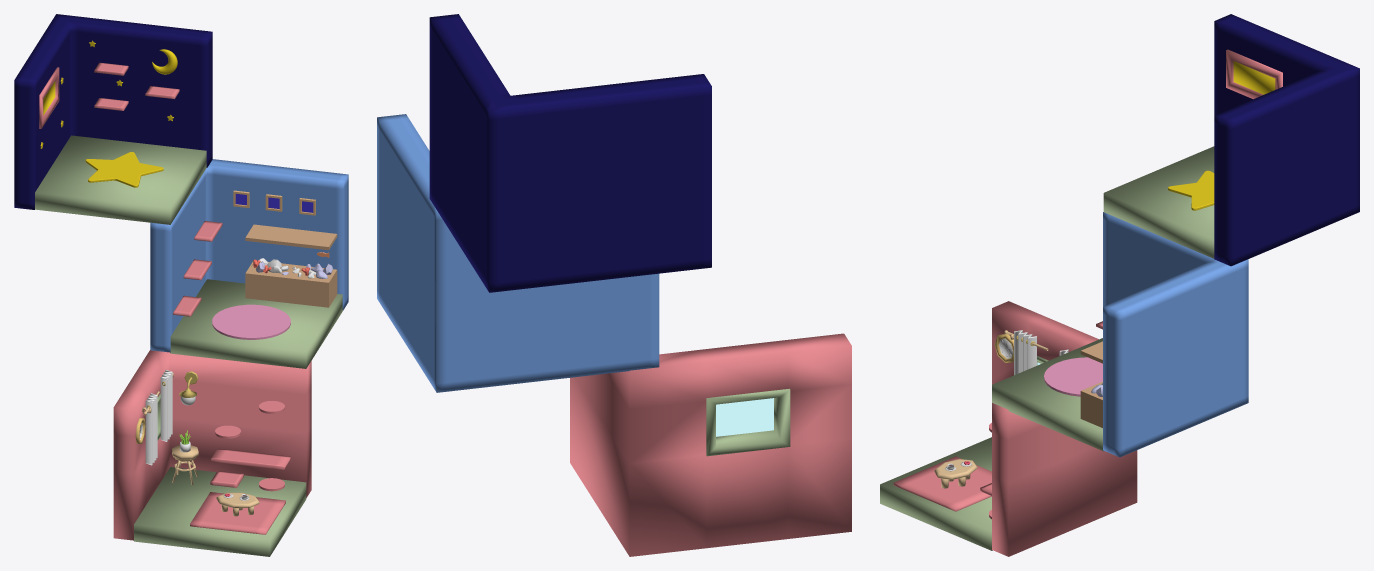
File: room_practice.glb
3 views of the same model, side by side, from view 1: azimuth 30°, elevation 25°; view 2: azimuth 150°, elevation 25°; view 3: azimuth 270°, elevation 25° (orthographic). The views are drawn at different scales.
Visible parts, largest first — view 1: wall3, window, wall2, floor2.001, Floor, floor2, fish_tank, Rug.001, Cylinder, star rug, Rug.007, curtain.001 (+6 smaller); view 2: wall3, window, wall2, Frame.001; view 3: wall3, wall2, window, floor2.001, floor2, Floor, Rug.001, big_frame, Cylinder, fish_tank, star rug, curtain (+1 smaller).
Part boxes in pixels (x1,y1,x2,y2): wall3: (14, 14, 212, 209); window: (113, 350, 311, 540); wall2: (150, 159, 348, 352); floor2.001: (35, 135, 206, 224); Floor: (134, 467, 306, 556); floor2: (170, 279, 342, 368); fish_tank: (245, 224, 337, 307); Rug.001: (190, 492, 285, 534); Cylinder: (212, 304, 290, 339); star rug: (85, 152, 163, 187); Rug.007: (211, 448, 290, 469); curtain.001: (160, 370, 172, 441); wall3: (429, 14, 711, 292); window: (570, 333, 851, 556); wall2: (377, 114, 659, 392); Frame.001: (706, 388, 790, 456); wall3: (1214, 14, 1359, 266); wall2: (1103, 212, 1248, 457); window: (992, 301, 1137, 556); floor2.001: (1103, 146, 1214, 258); floor2: (992, 338, 1103, 451); Floor: (880, 437, 992, 550); Rug.001: (893, 456, 991, 511); big_frame: (1226, 49, 1282, 99); Cylinder: (1044, 357, 1102, 396); fish_tank: (1080, 341, 1102, 427); star rug: (1168, 170, 1214, 210); curtain: (1014, 330, 1036, 375).
Bounding box in the file's own units: 7.13 × 9.26 × 9.25.
